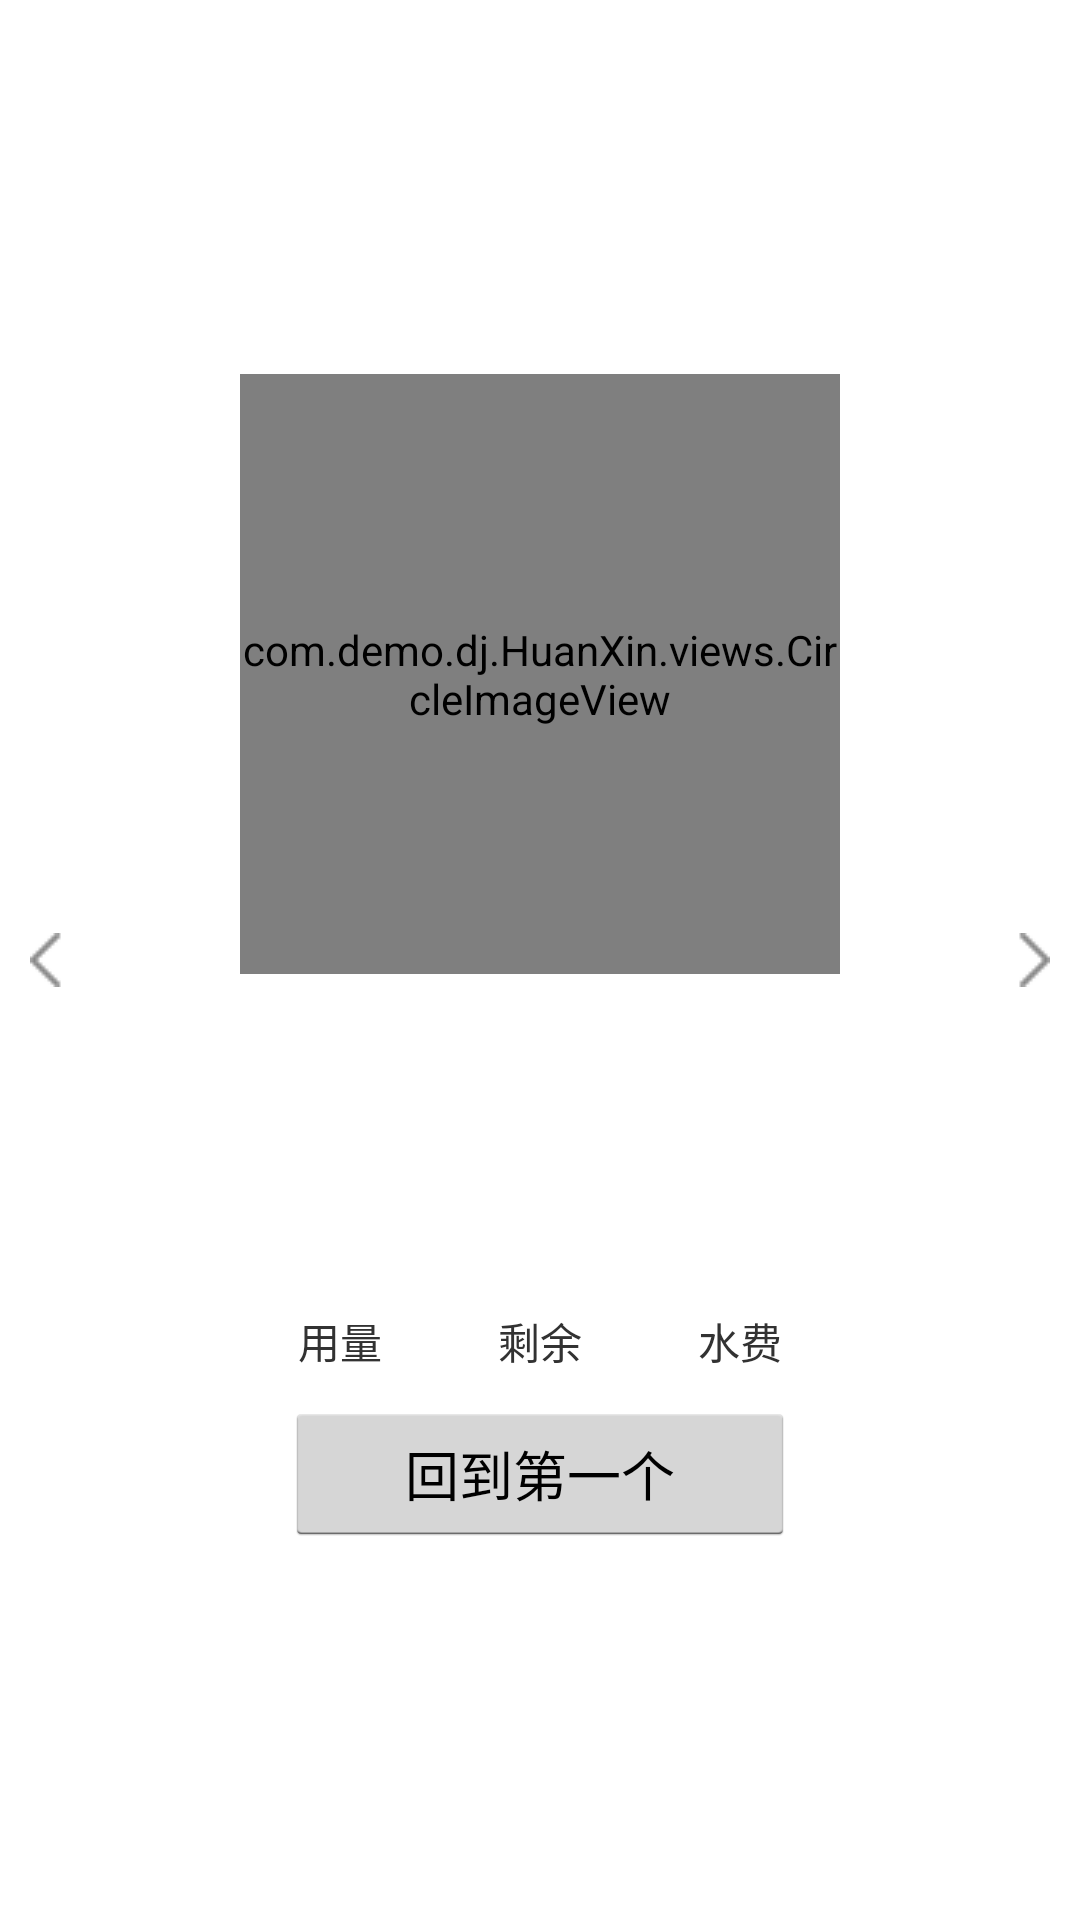

Named icons in this screenshot (1080 x 1920) and their bounding boxes, (x1, y1, x2, y2):
arrow left: (30, 933, 61, 987)
arrow right: (1019, 933, 1050, 987)
